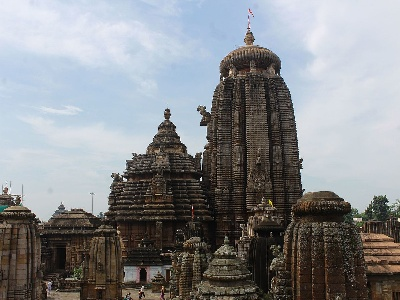amalaka: (205, 38, 297, 82), (285, 187, 355, 222), (1, 192, 51, 224)
gopuram: (185, 70, 312, 211)
